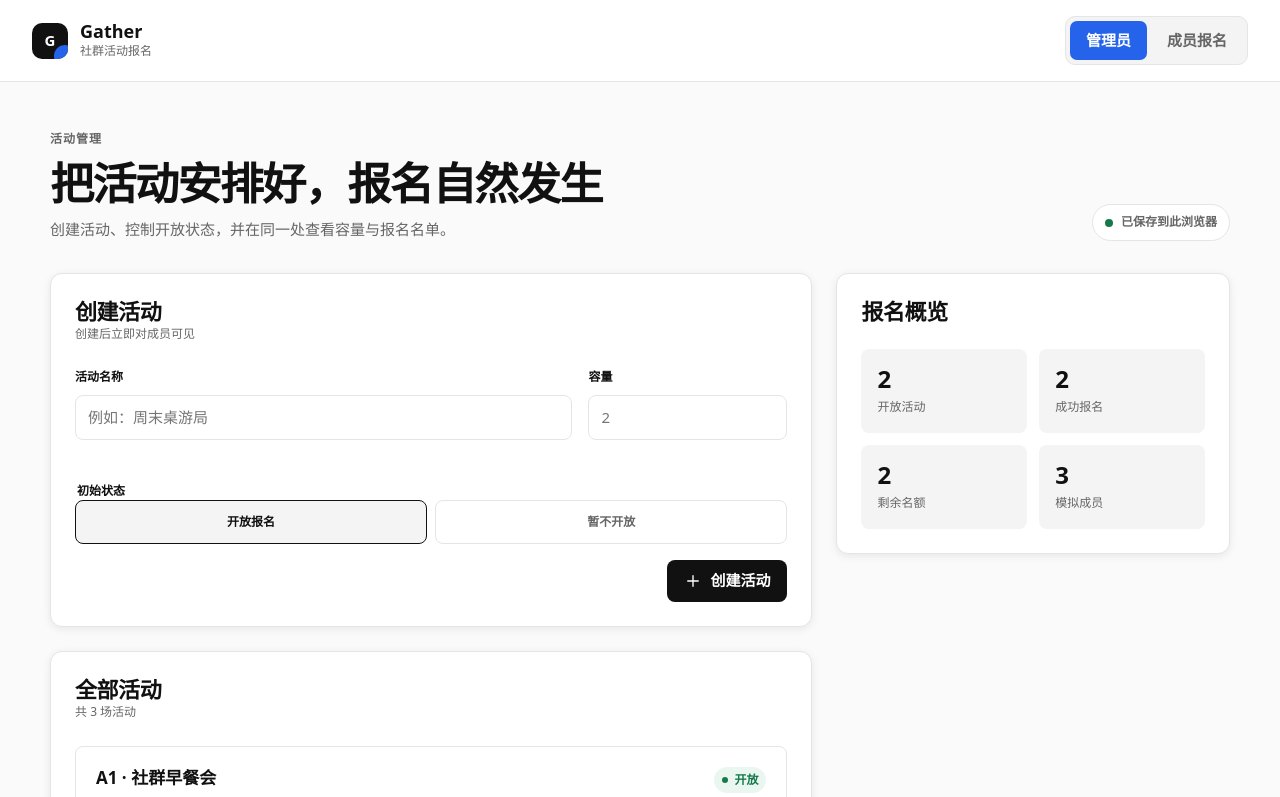
Test case: 成员关键交互 › 已有报名身份仍可报名其他活动，同一活动重复提交被拒绝
Click the button "成员报名" at {"x": 1197, "y": 41}, box [1151,21,1243,60]
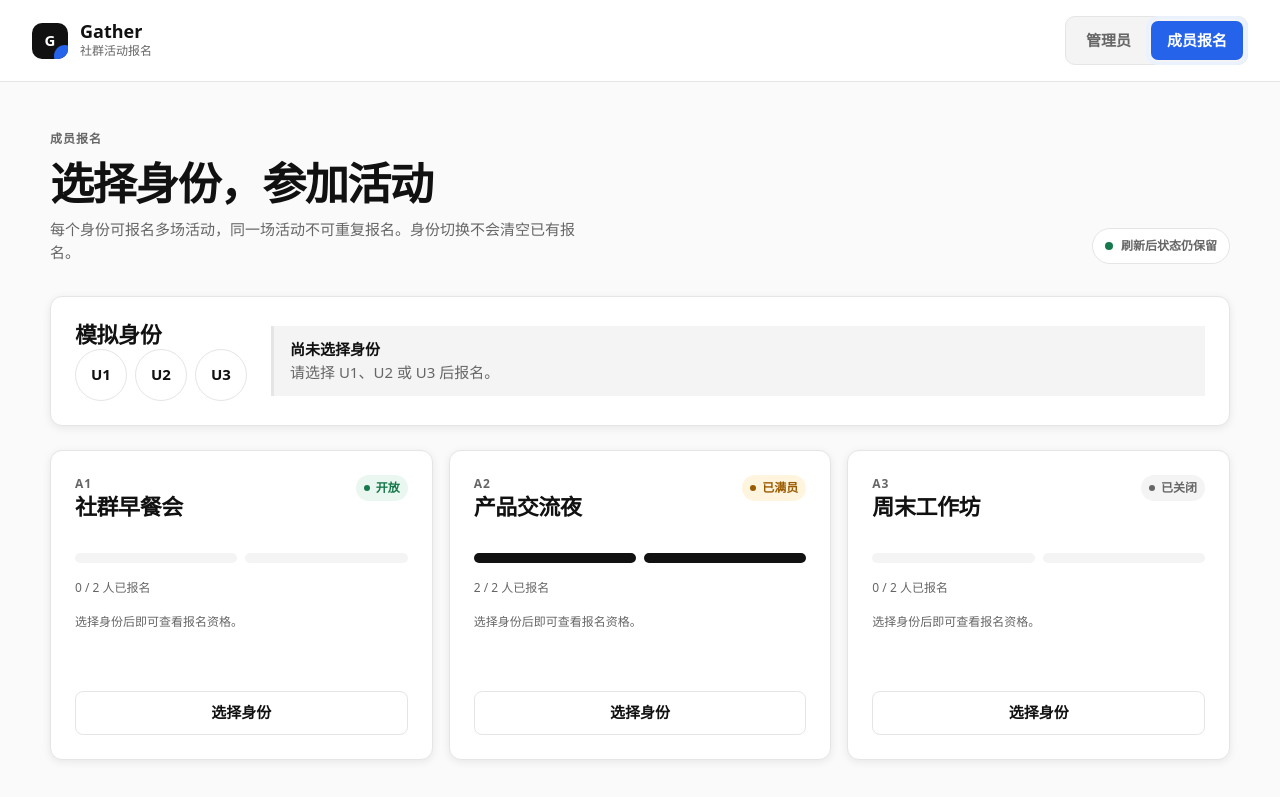
Click the button "U2" at {"x": 161, "y": 375}, box [135,349,187,401]
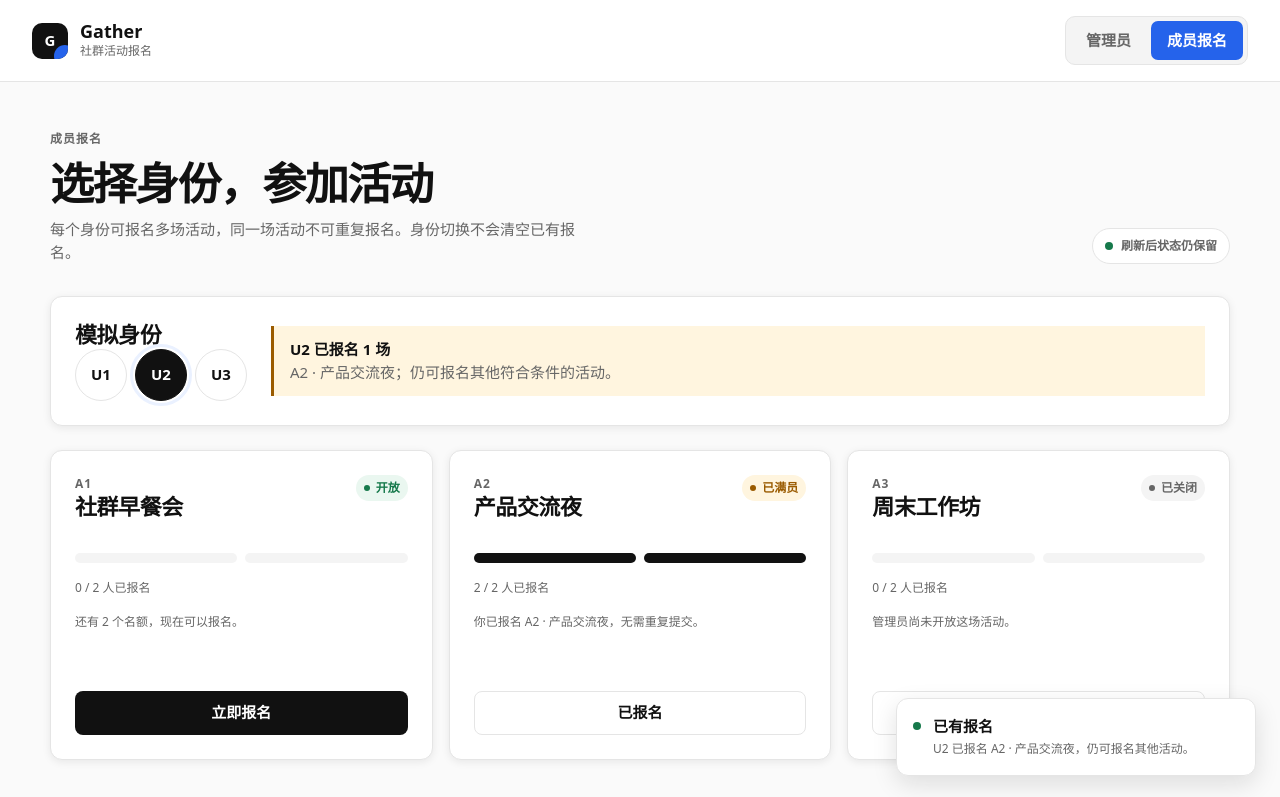
Check: the text "U2 已报名 1 场" is shown, box [290,339,390,359]
Check: the text "U2 已报名 1 场 A2 · 产品交流夜；仍可报名其他符合条件的活动。" is shown, box [271,326,1205,396]
Click the button "立即报名" at {"x": 241, "y": 713}, box [75,691,408,735]
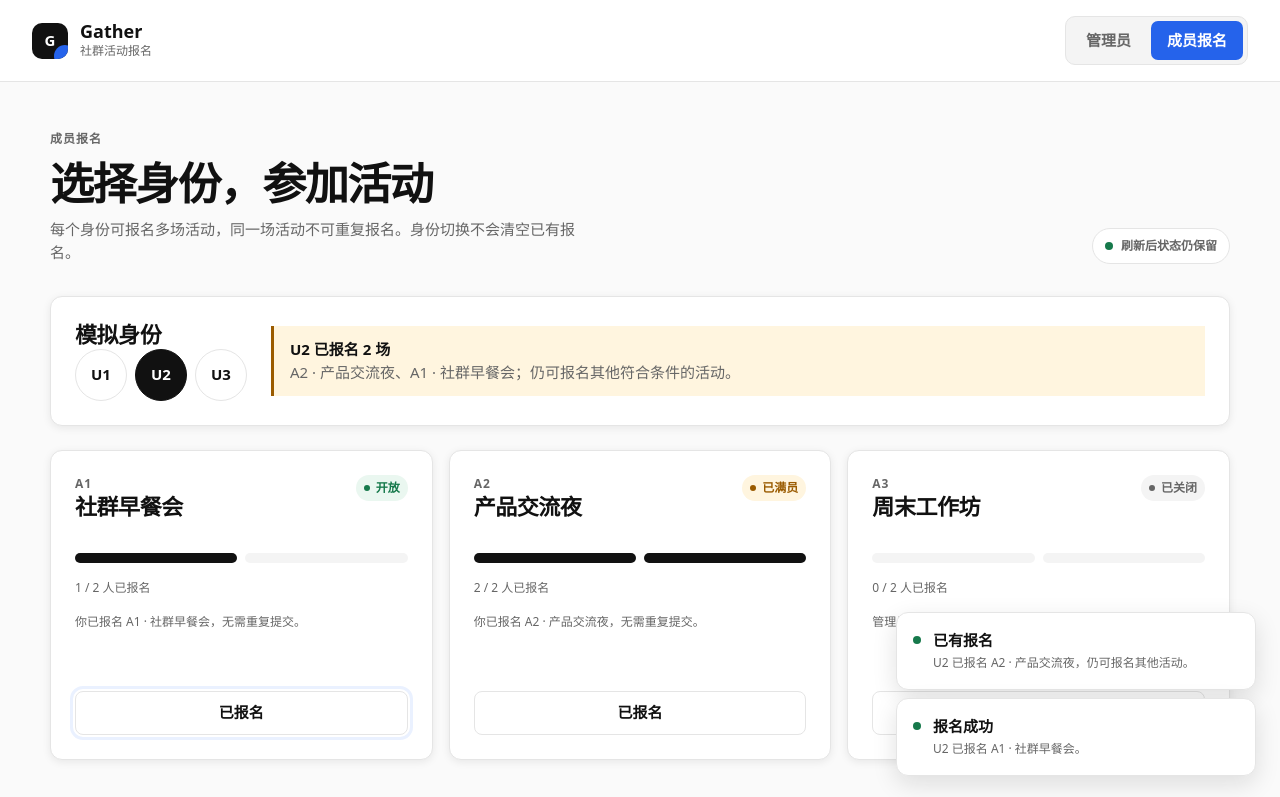
Check: the button "已报名" below "你已报名 A1 · 社群早餐会，无需重复提交。" is shown
Click the button "已报名" below "你已报名 A1 · 社群早餐会，无需重复提交。" at {"x": 241, "y": 713}, box [75,691,408,735]
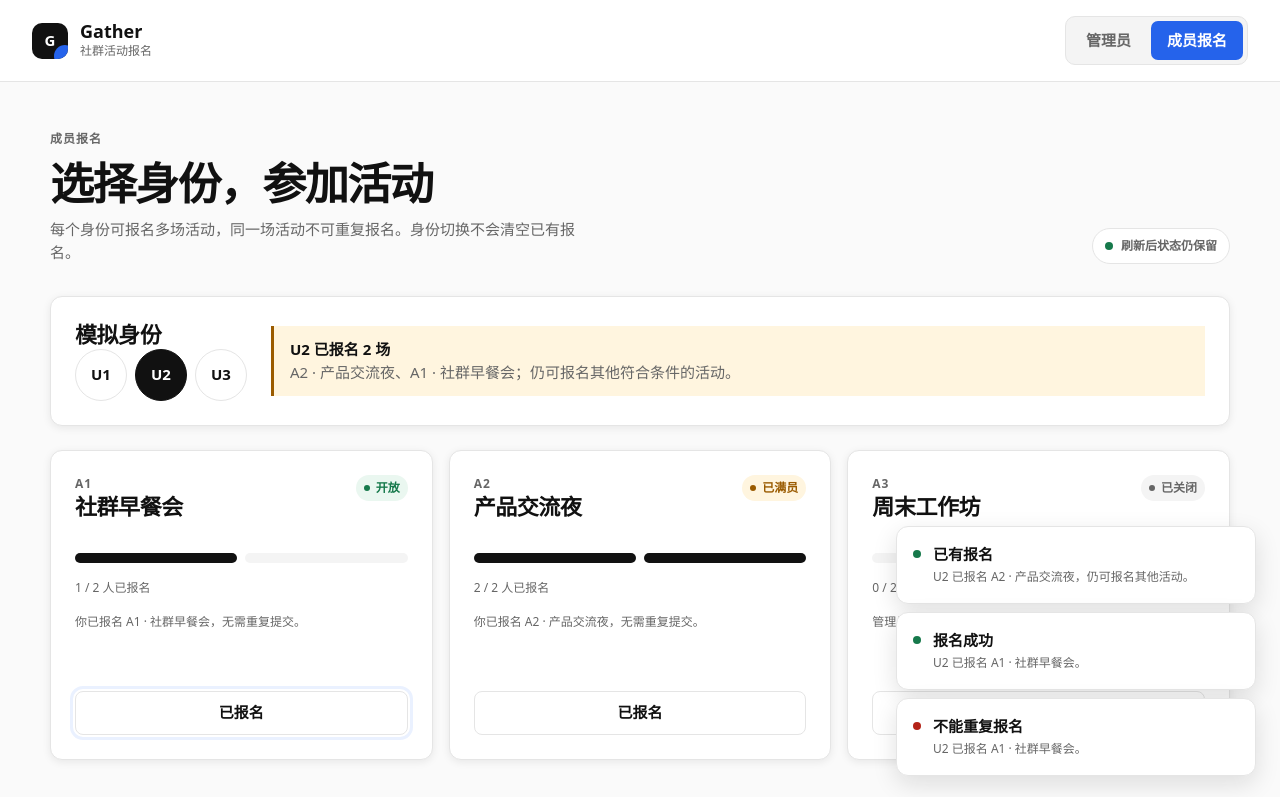
Check: the text "不能重复报名" is shown, box [933,716,1023,736]
